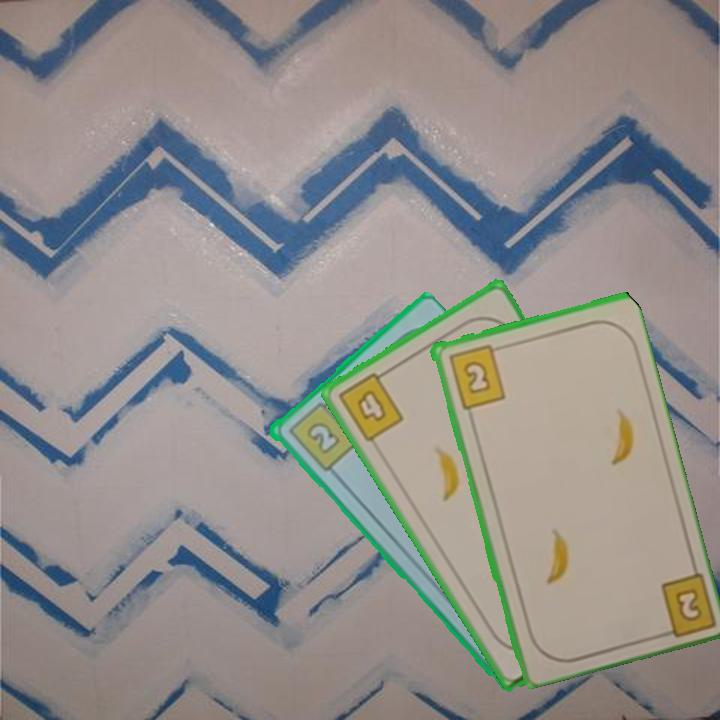2b: (283, 394, 360, 474), (652, 567, 716, 641), (445, 341, 508, 412)
4b: (334, 365, 407, 445)
